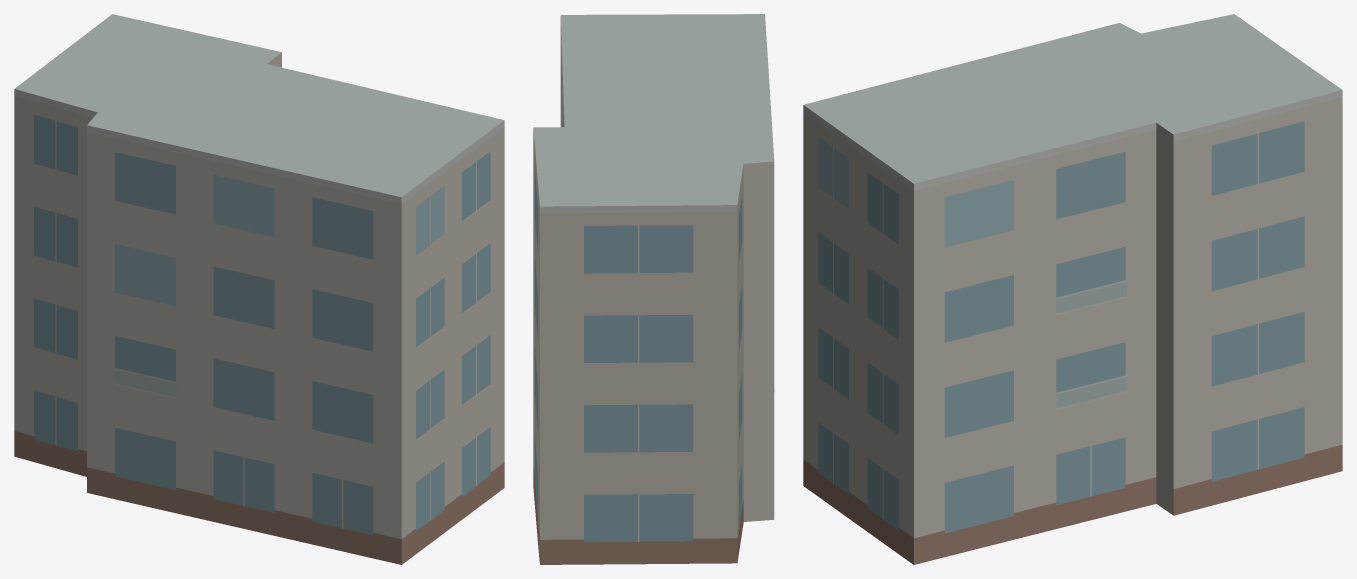
The model's file is survey-upis-32612741.glb.
The picture shows the model from 3 angles, left to right: view 1: azimuth 30°, elevation 25°; view 2: azimuth 150°, elevation 25°; view 3: azimuth 270°, elevation 25°; orthographic projection. The views are drawn at different scales.
Visible parts, largest first — view 1: survey-upis-32612741.tmp; view 2: survey-upis-32612741.tmp; view 3: survey-upis-32612741.tmp.
Part boxes in pixels (bbox=[...]): survey-upis-32612741.tmp: bbox=[14, 14, 504, 564]; survey-upis-32612741.tmp: bbox=[533, 14, 774, 564]; survey-upis-32612741.tmp: bbox=[803, 14, 1342, 564].
Bounding box in the file's own units: 12.62 × 13.2 × 16.94.
